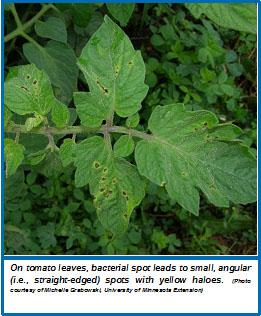Tomato leaf late blight: (137, 98, 257, 215), (76, 17, 157, 131), (69, 134, 145, 237), (4, 63, 59, 123)
